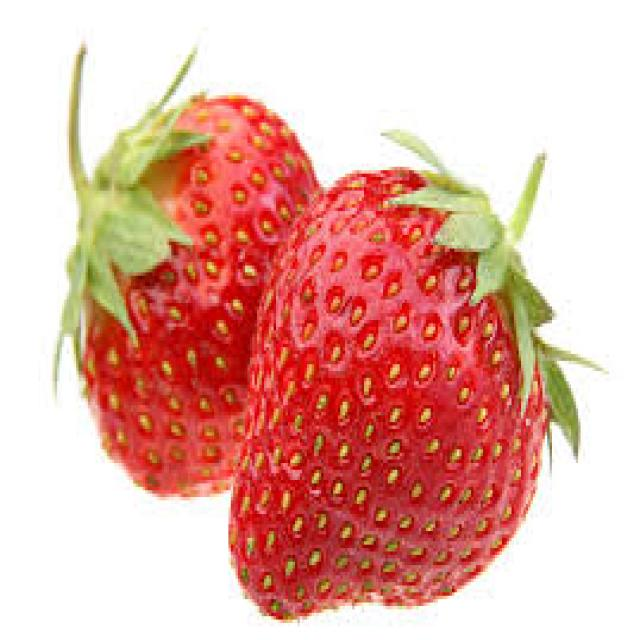strawberry: (250, 122, 609, 622), (41, 62, 317, 514)
